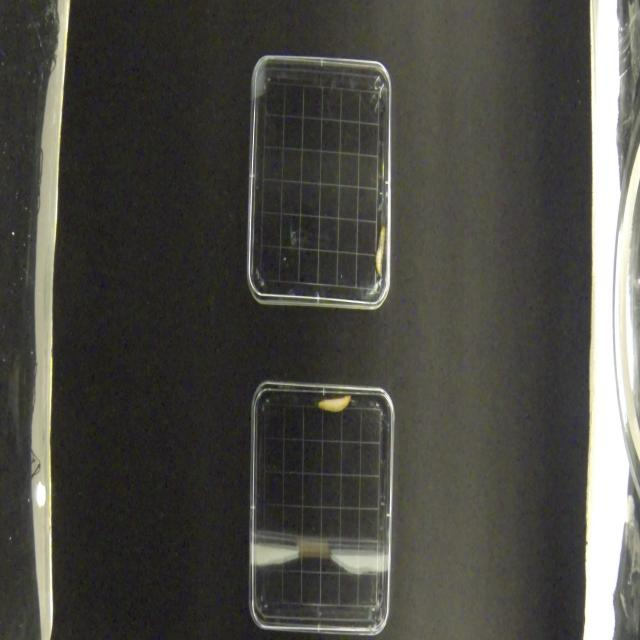larva: (318, 394, 352, 414), (374, 226, 386, 274)
